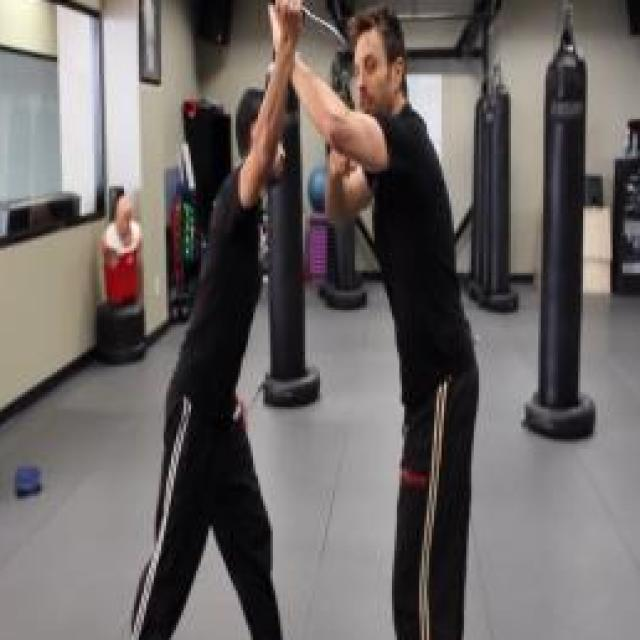knife: (268, 0, 350, 57)
